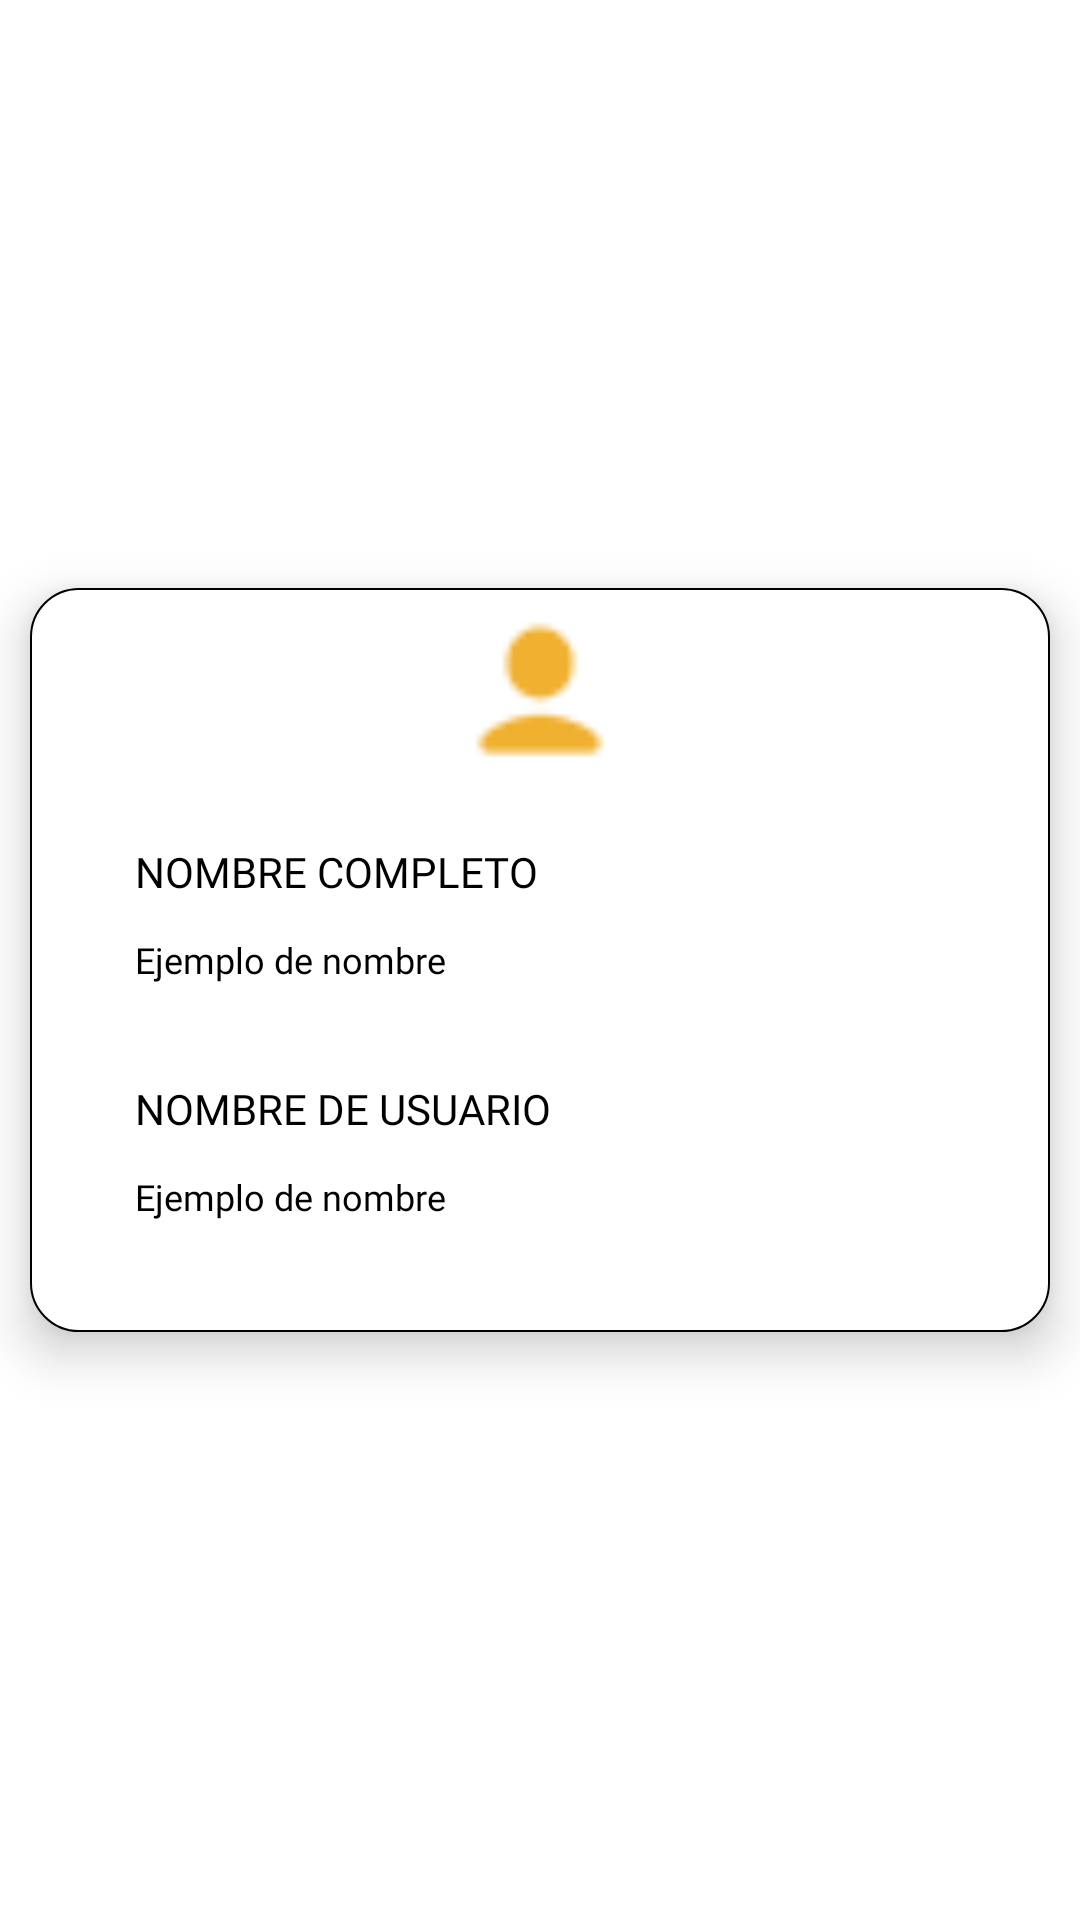

Icon click points for this 1080px×1920px phone screenshot, format [x,y]:
perfil: [540,690]
